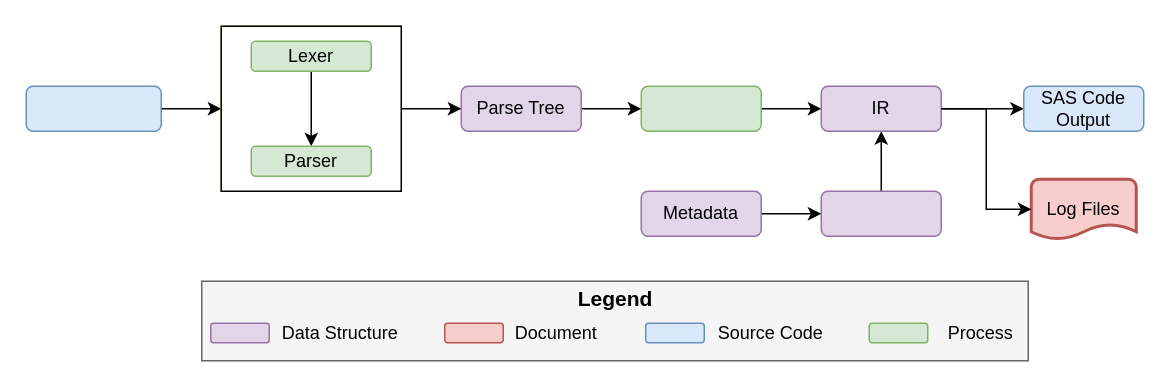
Some shapes in this 1170 by 387 pixel diagram are drawn without their labels. The shapes that lost their labels are listed below. From the top down, each one's centre as x and y in pixels, then its label:
At point (93, 108): "Source DSL (.mlang)".
At point (700, 108): "AST Builder".
At point (880, 213): "Semantic Rules".
